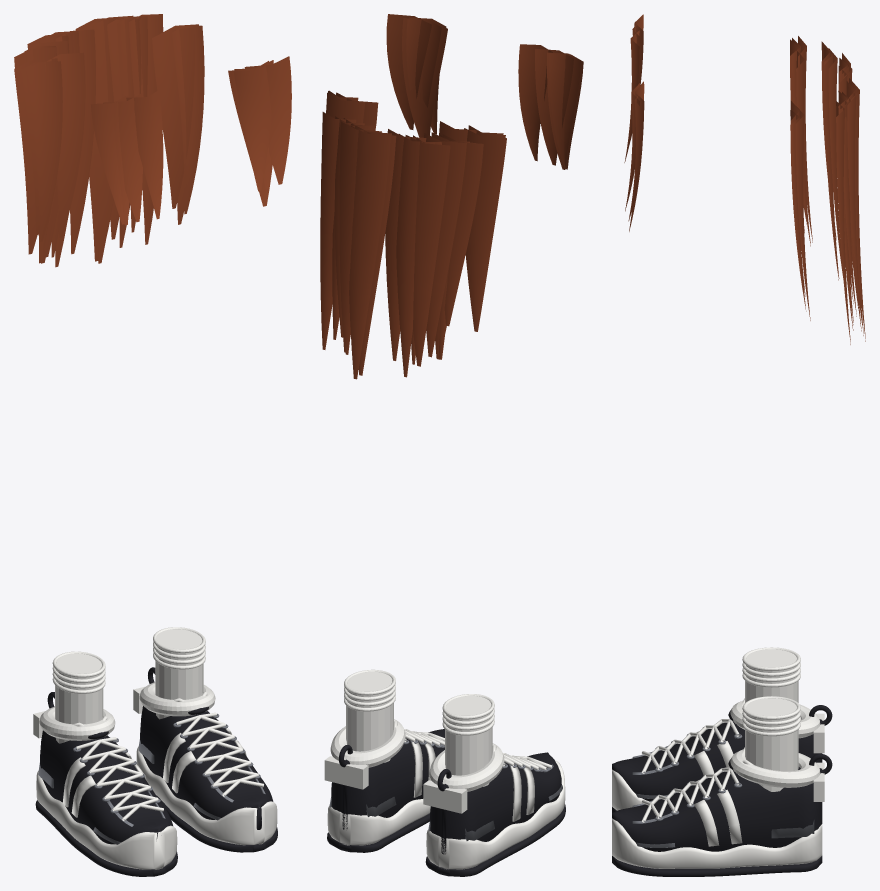
Rendered from heroine_parts.glb.
The picture shows the model from 3 angles, left to right: view 1: azimuth 30°, elevation 25°; view 2: azimuth 150°, elevation 25°; view 3: azimuth 270°, elevation 25°; orthographic projection.
Visible parts, largest first — view 1: shoe_R, shoe_L, ext_J_Sec_Hair5_10, ext_J_Sec_Hair6_05, ext_J_Sec_Hair4_11, ext_J_Sec_Hair4_12, ext_J_Sec_Hair5_06, ext_J_Sec_Hair5_07, ext_J_Sec_Hair5_08, ext_J_Sec_Hair5_09; view 2: shoe_R, shoe_L, ext_J_Sec_Hair5_08, ext_J_Sec_Hair5_07, ext_J_Sec_Hair5_09, ext_J_Sec_Hair4_11, ext_J_Sec_Hair4_12, ext_J_Sec_Hair5_06, ext_J_Sec_Hair5_10, ext_J_Sec_Hair6_05; view 3: shoe_L, shoe_R, ext_J_Sec_Hair5_06, ext_J_Sec_Hair5_09, ext_J_Sec_Hair5_07, ext_J_Sec_Hair6_05, ext_J_Sec_Hair5_10, ext_J_Sec_Hair4_12, ext_J_Sec_Hair4_11, ext_J_Sec_Hair5_08.
Boxes of the visible parts, left/top/right/bottom form: shoe_R: left=33, top=651, right=177, bottom=876; shoe_L: left=133, top=627, right=277, bottom=852; ext_J_Sec_Hair5_10: left=14, top=52, right=85, bottom=254; ext_J_Sec_Hair6_05: left=152, top=24, right=204, bottom=224; ext_J_Sec_Hair4_11: left=91, top=90, right=163, bottom=225; ext_J_Sec_Hair4_12: left=228, top=56, right=291, bottom=206; ext_J_Sec_Hair5_06: left=107, top=14, right=163, bottom=247; ext_J_Sec_Hair5_07: left=75, top=15, right=133, bottom=263; ext_J_Sec_Hair5_08: left=27, top=29, right=95, bottom=267; ext_J_Sec_Hair5_09: left=14, top=41, right=67, bottom=263; shoe_R: left=423, top=694, right=565, bottom=876; shoe_L: left=324, top=669, right=444, bottom=852; ext_J_Sec_Hair5_08: left=385, top=129, right=450, bottom=377; ext_J_Sec_Hair5_07: left=339, top=121, right=396, bottom=379; ext_J_Sec_Hair5_09: left=424, top=132, right=483, bottom=359; ext_J_Sec_Hair4_11: left=518, top=44, right=583, bottom=169; ext_J_Sec_Hair4_12: left=386, top=14, right=447, bottom=137; ext_J_Sec_Hair5_06: left=320, top=112, right=375, bottom=354; ext_J_Sec_Hair5_10: left=439, top=121, right=506, bottom=331; ext_J_Sec_Hair6_05: left=326, top=90, right=378, bottom=130; shoe_L: left=612, top=696, right=832, bottom=876; shoe_R: left=612, top=647, right=832, bottom=812; ext_J_Sec_Hair5_06: left=836, top=91, right=856, bottom=344; ext_J_Sec_Hair5_09: left=821, top=41, right=843, bottom=280; ext_J_Sec_Hair5_07: left=846, top=78, right=865, bottom=341; ext_J_Sec_Hair6_05: left=790, top=100, right=810, bottom=320; ext_J_Sec_Hair5_10: left=790, top=36, right=812, bottom=246; ext_J_Sec_Hair4_12: left=625, top=81, right=644, bottom=231; ext_J_Sec_Hair4_11: left=624, top=14, right=643, bottom=162; ext_J_Sec_Hair5_08: left=838, top=53, right=858, bottom=308.
Size of the model in its own units: 0.3081 by 1.13 by 0.3383.
